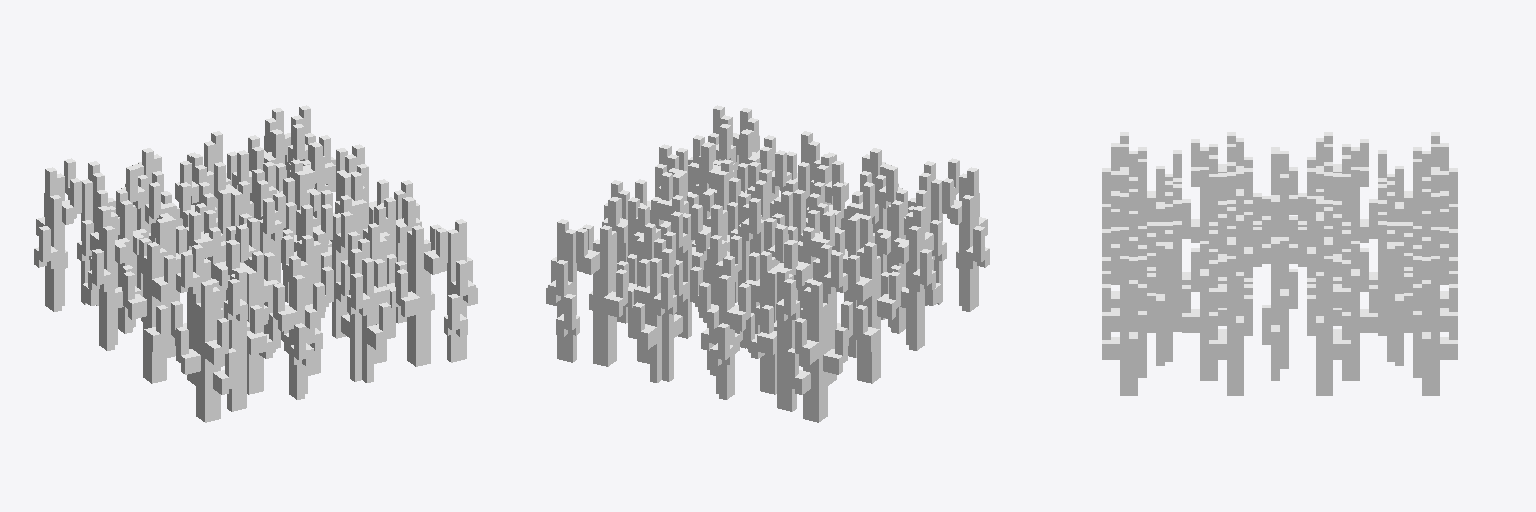
The model's file is MILHO3.obj.
3 views of the same model, side by side, from view 1: azimuth 30°, elevation 25°; view 2: azimuth 150°, elevation 25°; view 3: azimuth 270°, elevation 25° (orthographic).
Parts seen in each view (by area): view 1: object 1; view 2: object 1; view 3: object 1.
Boxes of the visible parts, <box> form: object 1: <box>34,105,477,422</box>; object 1: <box>546,105,989,422</box>; object 1: <box>1102,132,1457,395</box>.
Size of the model in its own units: 3.8 by 1.9 by 4.